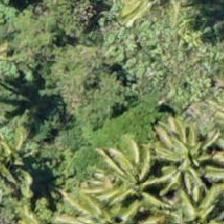coconut_tree: (84, 140, 174, 223), (142, 108, 223, 198), (0, 120, 57, 210), (0, 115, 53, 205), (141, 170, 223, 223)
